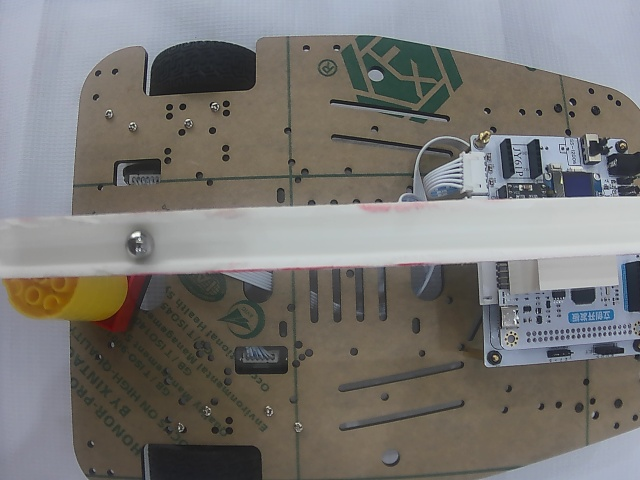steelball: (124, 230, 155, 260)
